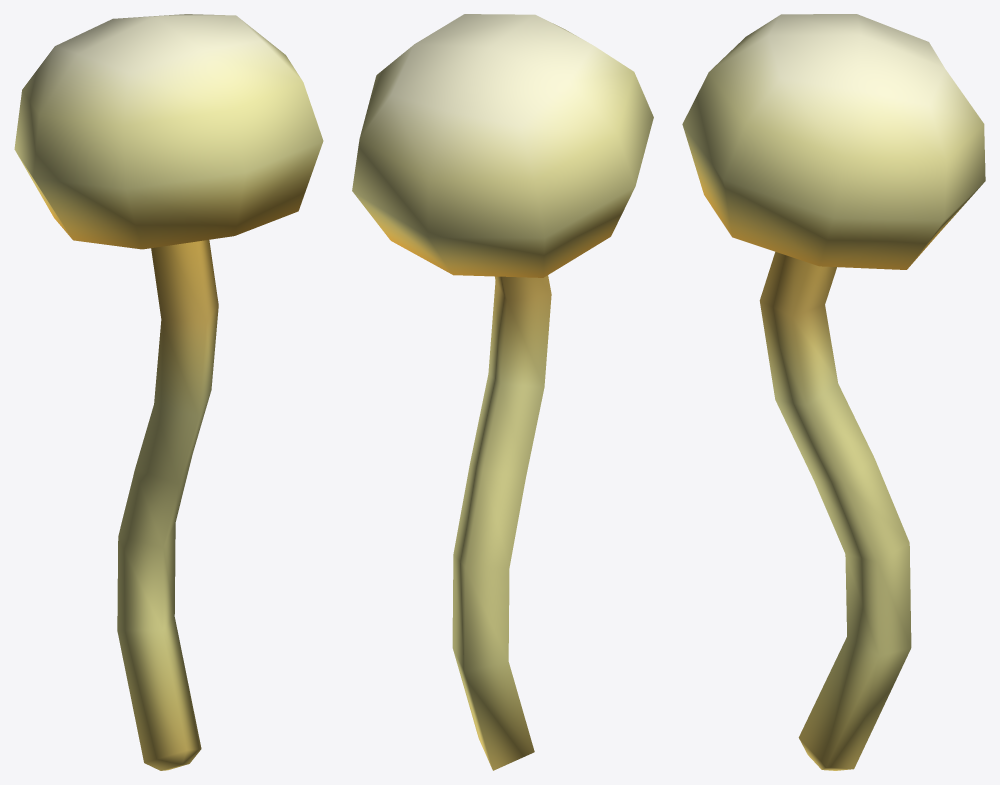
The model's file is Mushroom.fbx.
The picture shows the model from 3 angles, left to right: view 1: azimuth 30°, elevation 25°; view 2: azimuth 150°, elevation 25°; view 3: azimuth 270°, elevation 25°; orthographic projection. The views are drawn at different scales.
Visible parts, largest first — view 1: Mushroom; view 2: Mushroom; view 3: Mushroom.
Part boxes in pixels (<box>): Mushroom: <box>14,14,323,770</box>; Mushroom: <box>352,14,653,770</box>; Mushroom: <box>682,14,985,770</box>.
Bounding box in the file's own units: 0.227 × 0.0866 × 0.0848.
